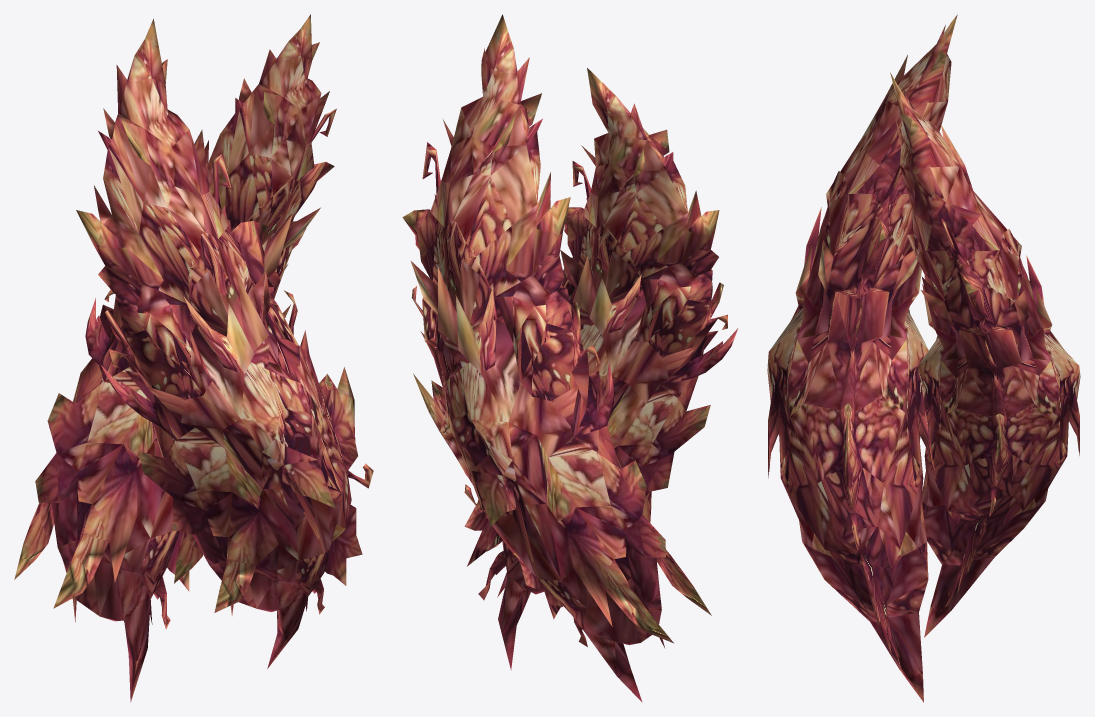
Rendered from sunset_braid_bud.glb.
The picture shows the model from 3 angles, left to right: view 1: azimuth 30°, elevation 25°; view 2: azimuth 150°, elevation 25°; view 3: azimuth 270°, elevation 25°; orthographic projection. The views are drawn at different scales.
Parts seen in each view (by area): view 1: Mesh; view 2: Mesh; view 3: Mesh.
Part boxes in pixels (x1,y1,x2,y2): Mesh: (14, 14, 373, 702); Mesh: (402, 14, 738, 702); Mesh: (767, 14, 1080, 702).
Bounding box in the file's own units: 0.4525 × 0.95 × 0.4191.
1 material, 1 textured.
